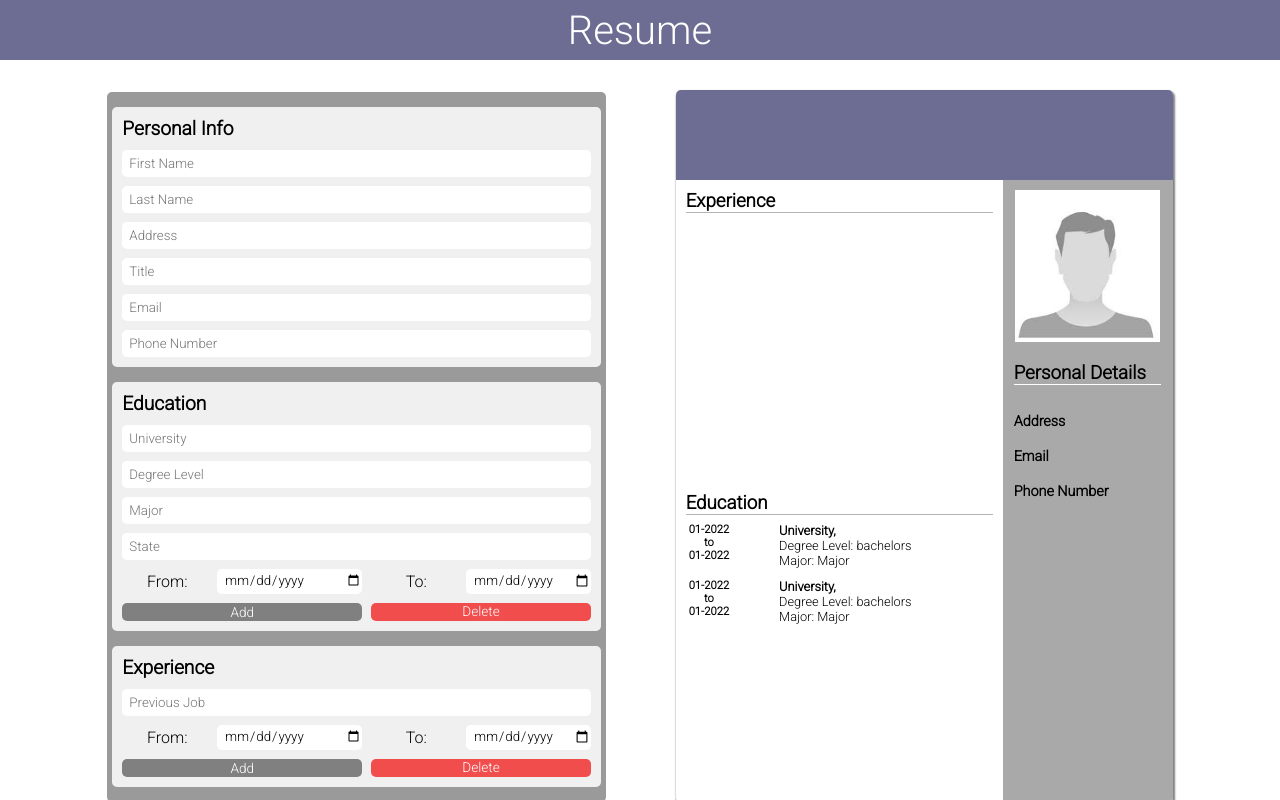
Test case: experience input section taking input and rendering through state read properly › after filling out all experience inputs and clicking add, the input fields reset and render on the resume container
Type "previous job entry" into the field with placeholder "Previous Job".
click(356, 702); type("previous job entry")  # box top-left (122, 688), bottom-right (591, 716)
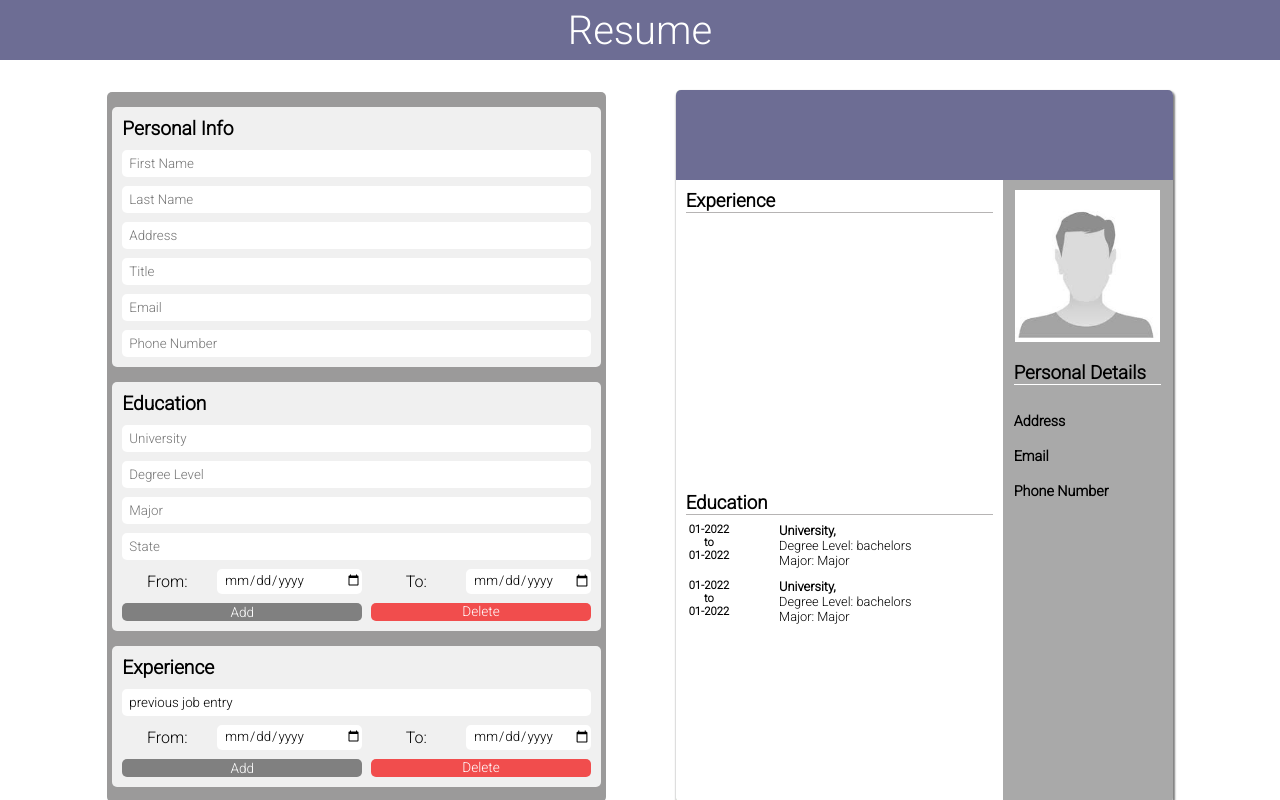
Type "2022-01-21" into the date field with test id "previousJobFrom".
click(290, 737); type("2022-01-21")  # box top-left (217, 724), bottom-right (362, 750)
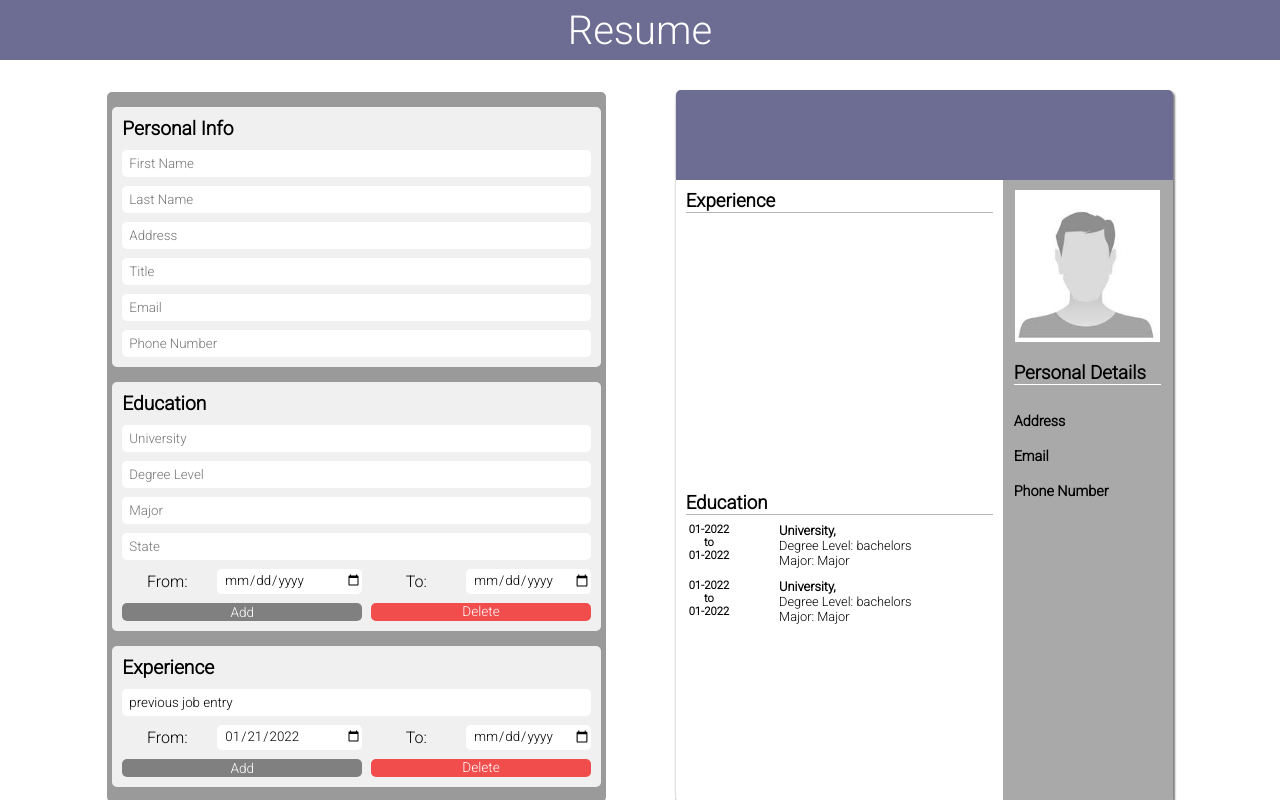
Type "2022-03-21" into the date field with test id "previousJobTo".
click(528, 737); type("2022-03-21")  # box top-left (466, 724), bottom-right (591, 750)
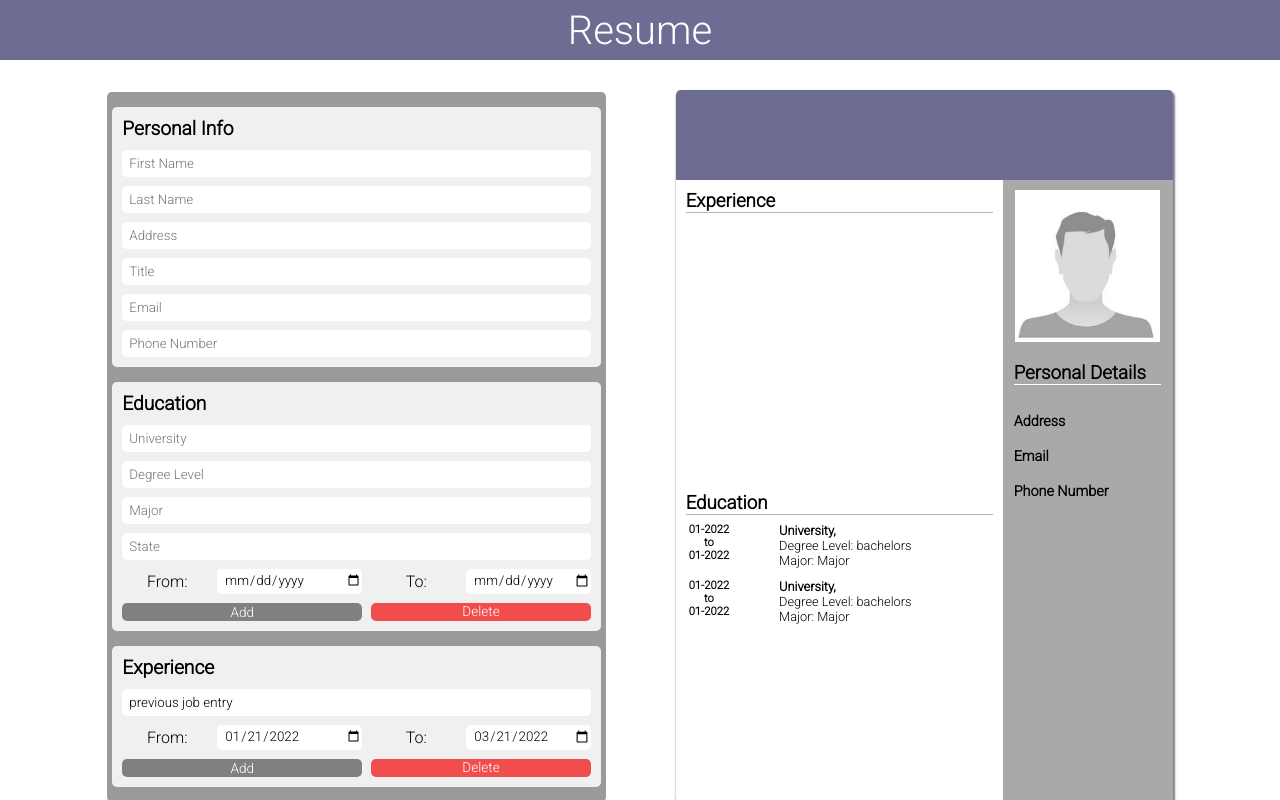
Click the button with test id "experienceAddBtn".
click(242, 768)  # box top-left (122, 758), bottom-right (362, 776)
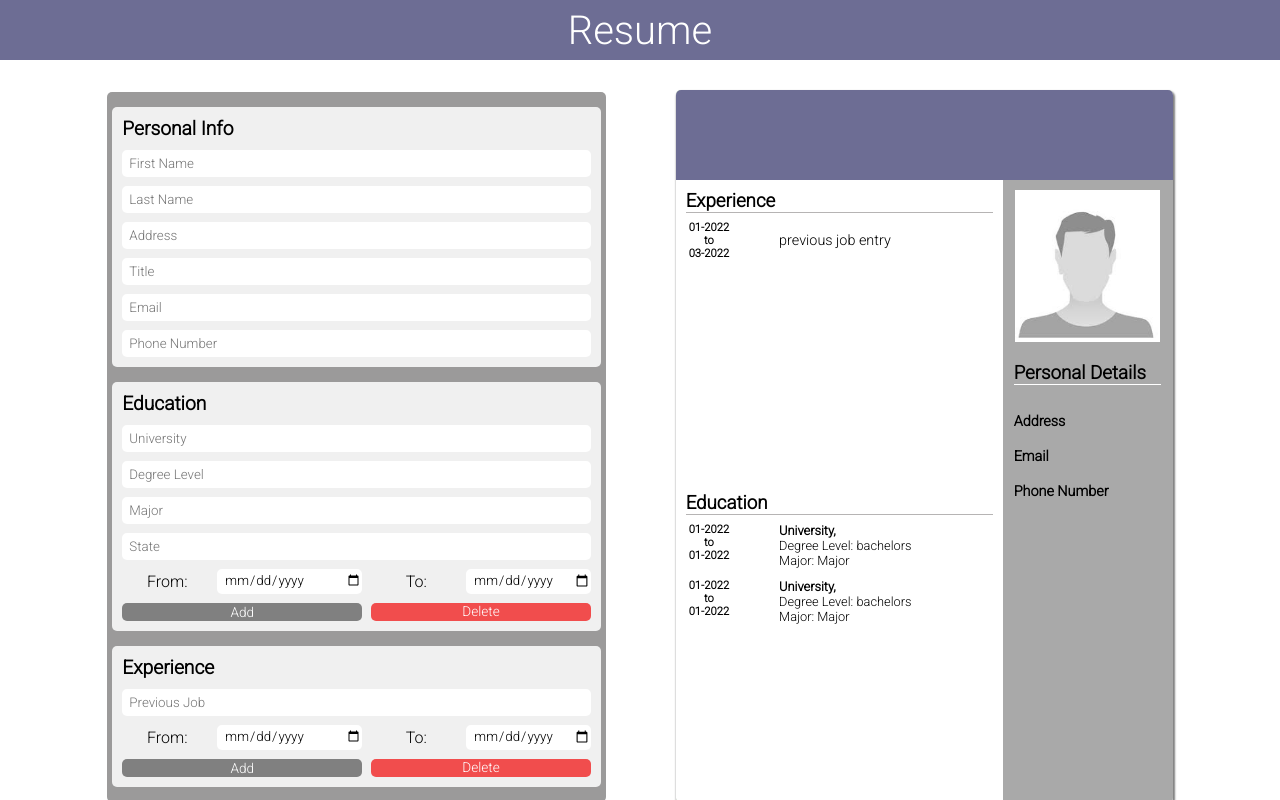
Result: the number of elements with test id "renderedExpItem" is 1 at top-left (689, 221), bottom-right (891, 260)
